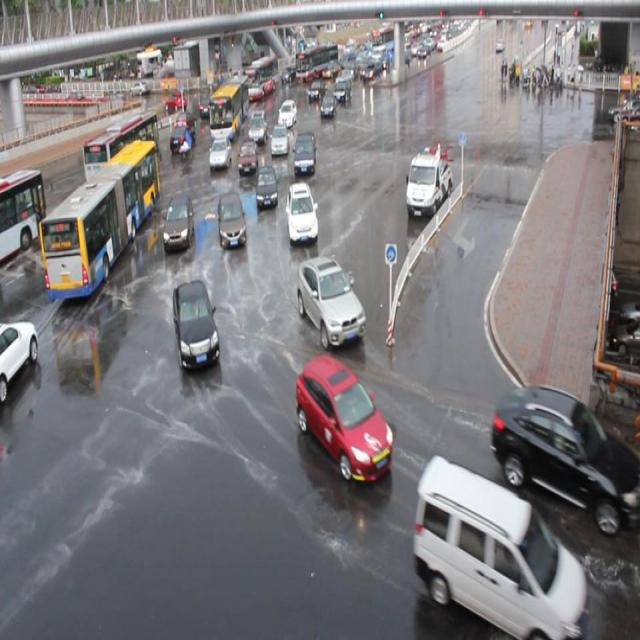bus: (404, 149, 452, 216)
car: (491, 384, 628, 525), (296, 355, 393, 479), (296, 255, 365, 346), (172, 278, 220, 368), (1, 320, 39, 392), (286, 182, 318, 241), (163, 193, 195, 249), (217, 191, 247, 246), (292, 131, 316, 175), (255, 164, 278, 207), (209, 136, 231, 168), (169, 124, 196, 150), (237, 140, 258, 172), (248, 110, 268, 142), (270, 124, 289, 156), (278, 100, 297, 126), (165, 91, 188, 112), (174, 110, 195, 132), (319, 93, 337, 118), (333, 80, 351, 103), (307, 79, 327, 99), (198, 95, 215, 118)
truck: (414, 456, 580, 640)
van: (38, 140, 160, 297), (82, 109, 160, 196), (1, 170, 48, 263), (208, 74, 249, 141), (243, 54, 278, 100)
